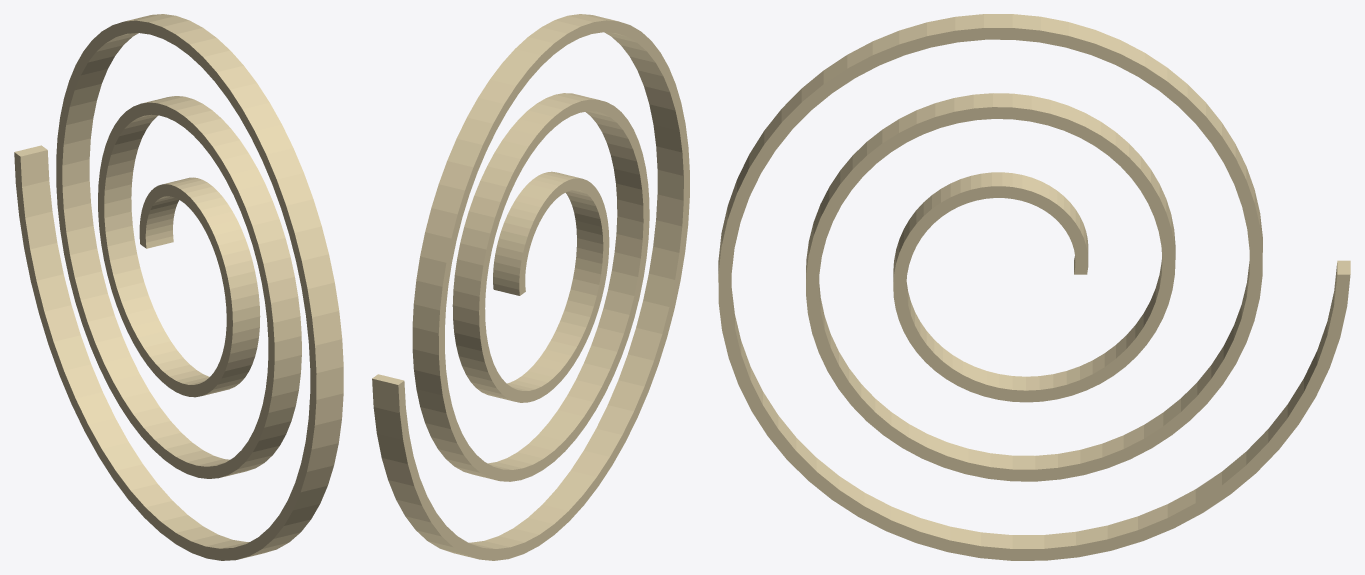
The model's file is fan-clutch-thermal-spring.glb.
The picture shows the model from 3 angles, left to right: view 1: azimuth 30°, elevation 25°; view 2: azimuth 150°, elevation 25°; view 3: azimuth 270°, elevation 25°; orthographic projection. The views are drawn at different scales.
Parts seen in each view (by area): view 1: world; view 2: world; view 3: world.
Boxes of the visible parts, x1=… form: world: x1=14, y1=14, x2=343, y2=560; world: x1=372, y1=14, x2=689, y2=560; world: x1=718, y1=14, x2=1350, y2=560.
Bounding box in the file's own units: 0.0015 × 0.0268 × 0.0288.
